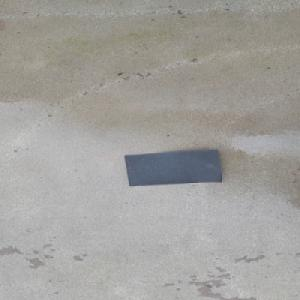PaintChip: (123, 149, 225, 187)
